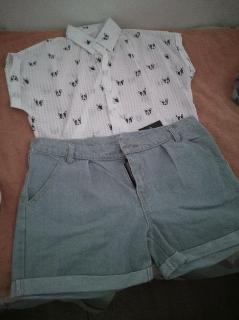short sleeve top: (4, 15, 209, 188)
shorts: (9, 116, 239, 302)
